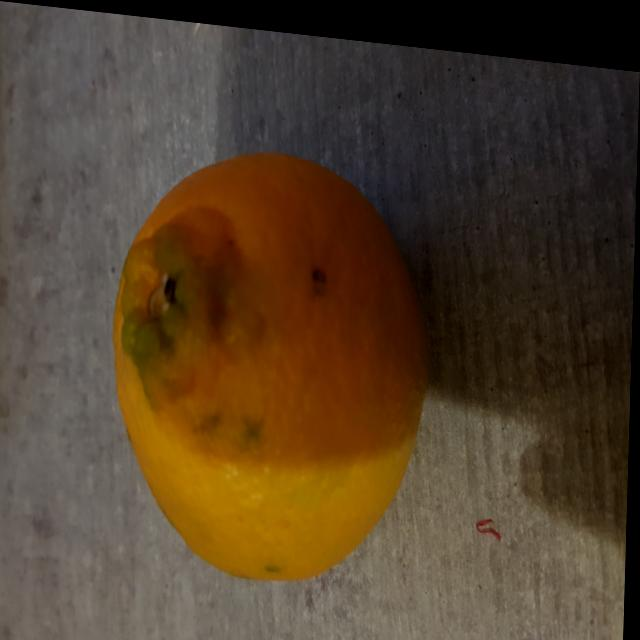Orange: (115, 144, 434, 575)
